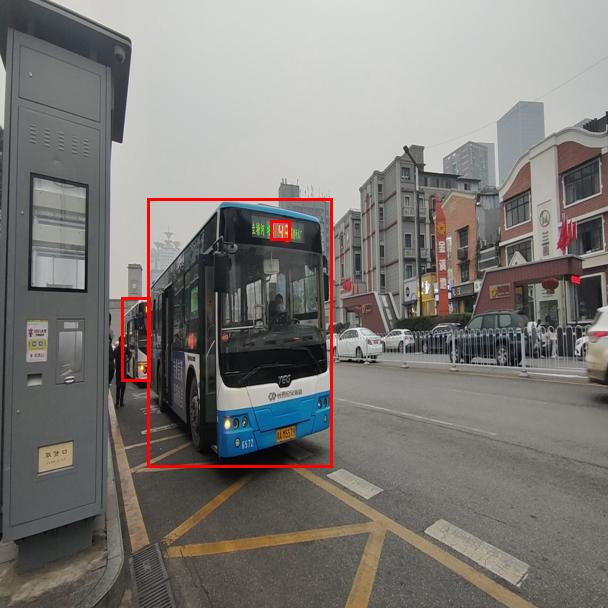bus: (147, 198, 332, 467), (121, 297, 150, 381)
screen: (270, 220, 290, 240)
